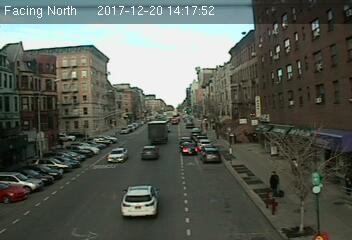car: (121, 186, 160, 219), (140, 145, 159, 162), (107, 147, 127, 163), (200, 148, 222, 162), (180, 141, 198, 156)
pedestrian: (268, 171, 285, 199)
truck: (147, 121, 168, 144)
